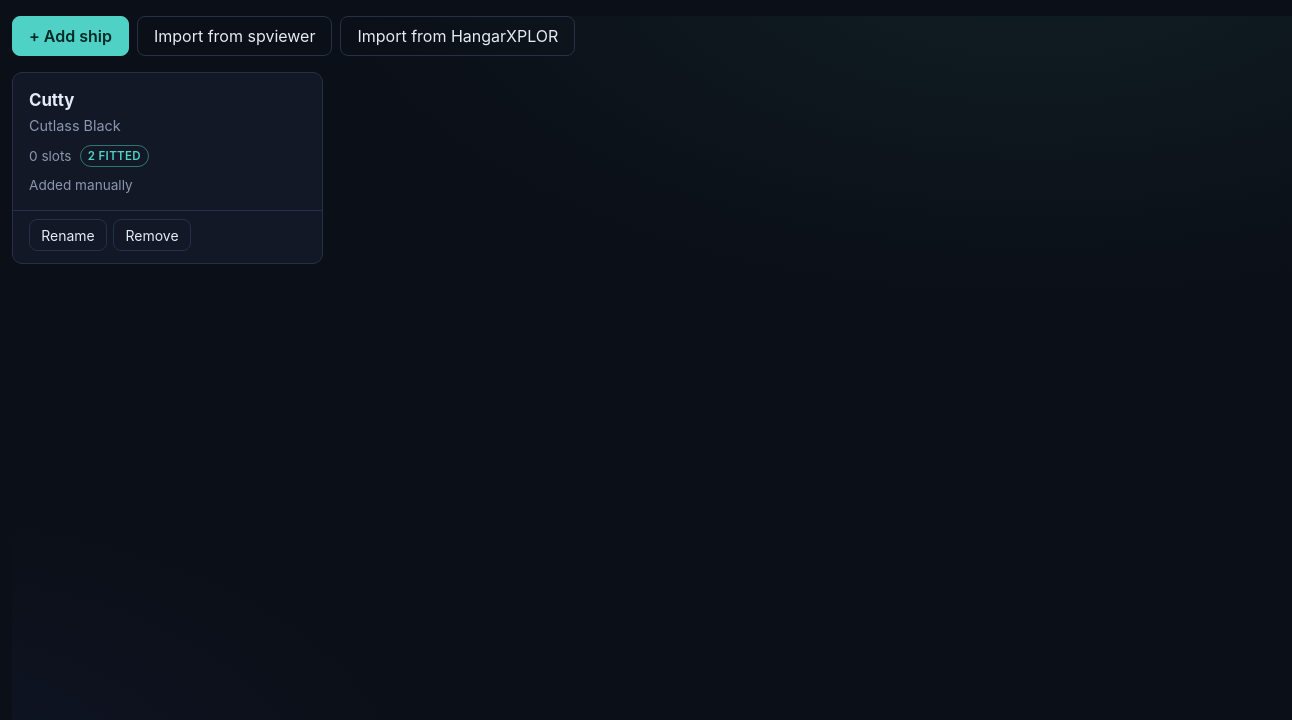
Test: HangarView › renames a ship inline
The image size is (1292, 720).
Click the button "Rename". click: (68, 235)
box: [29,219,107,251]
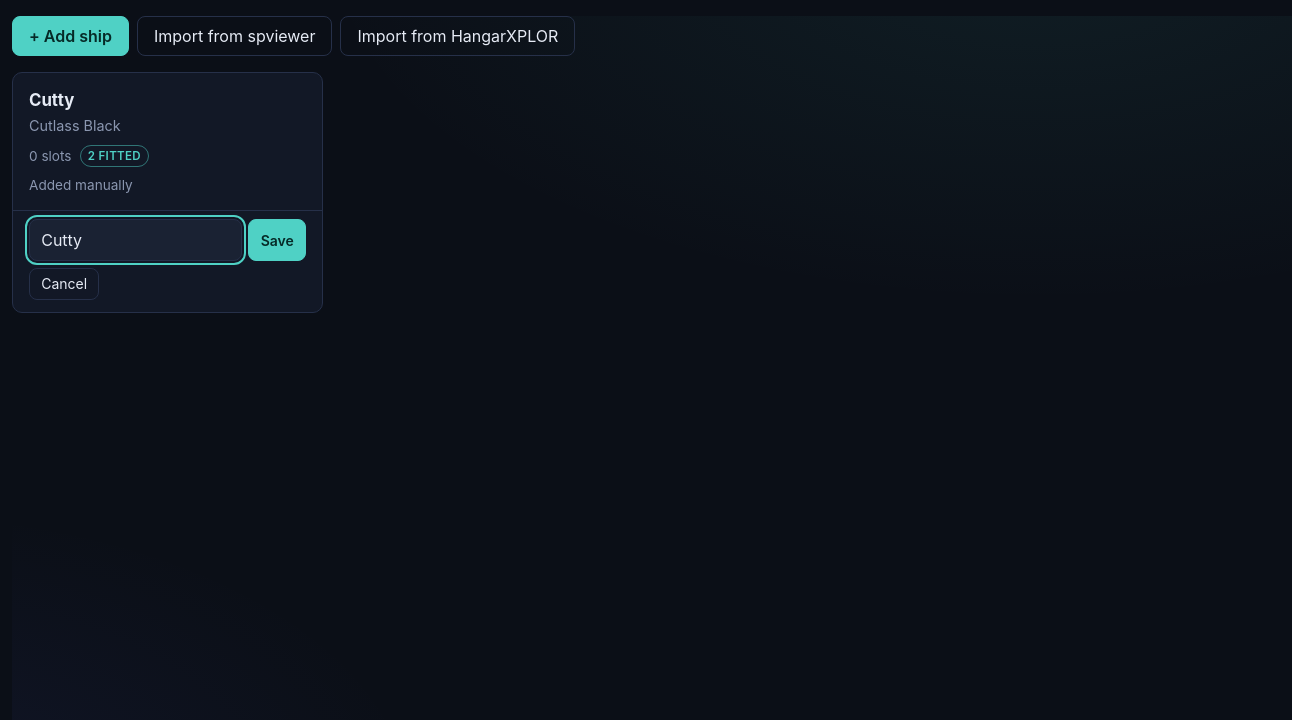
Replace the text in the field named "Nickname" with "Big Cutty". click: (136, 240)
box: [29,219,242,261]
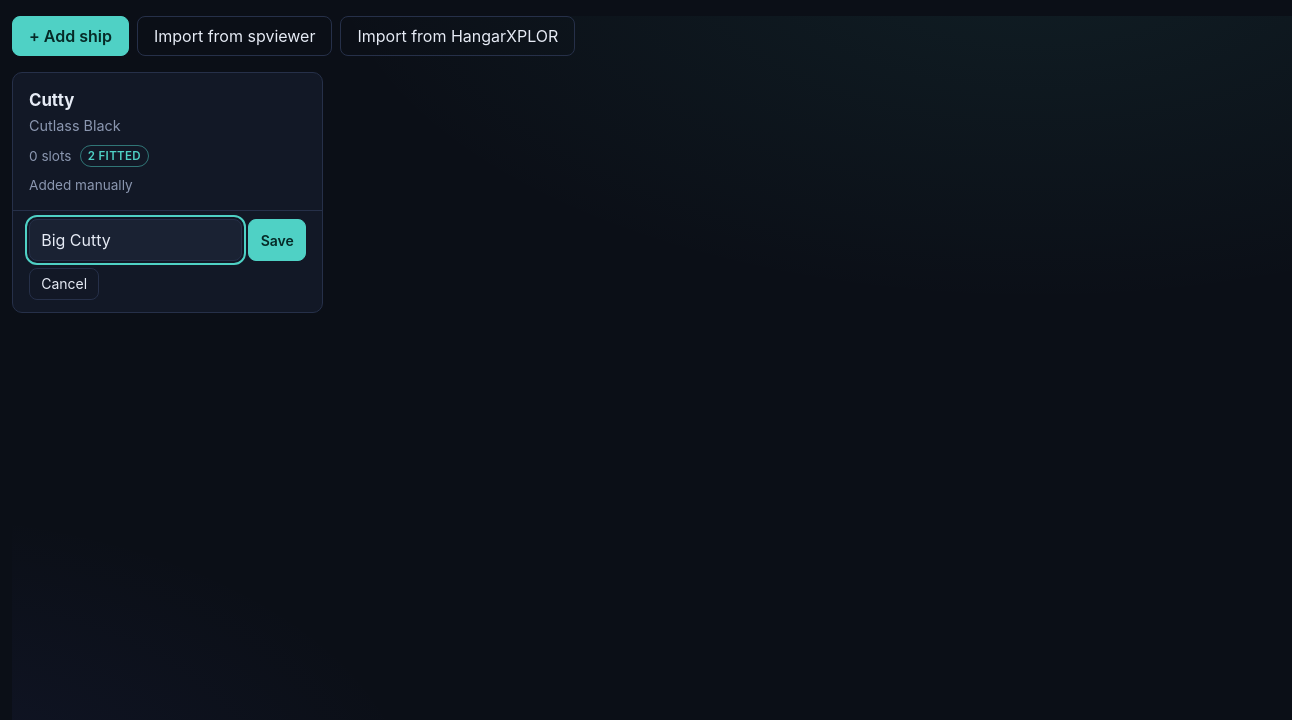
Click the button "Save". click: (277, 240)
box: [248,219,306,261]
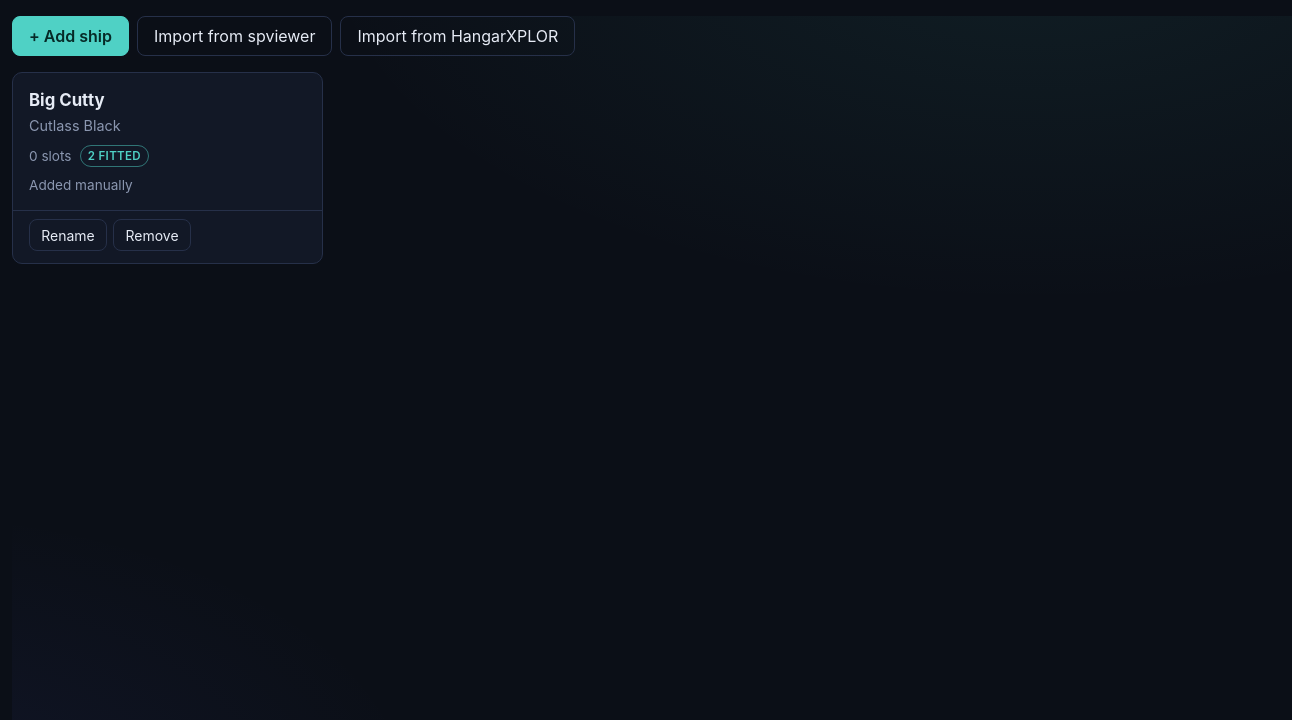
Expected: the text "Big Cutty" is shown, [29,90,105,110]
